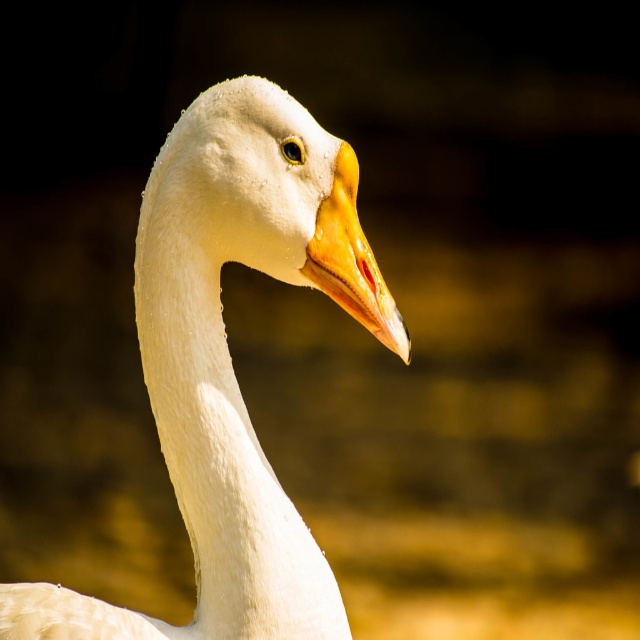Goose: (0, 66, 414, 639)
